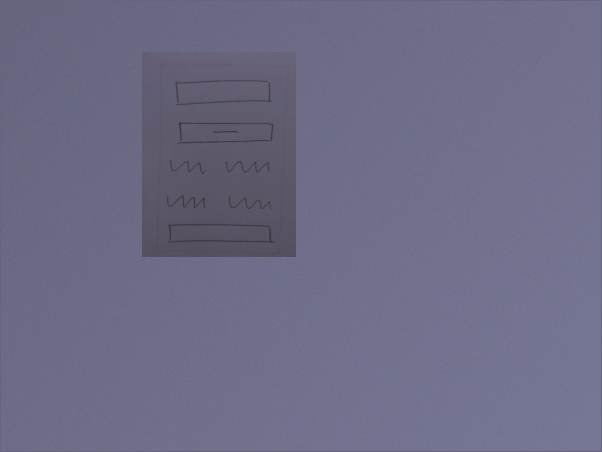button: (174, 118, 277, 148)
text: (226, 193, 275, 217), (163, 191, 209, 213), (222, 157, 272, 177), (168, 157, 208, 179)
text_input: (173, 77, 274, 109), (165, 223, 277, 248)
